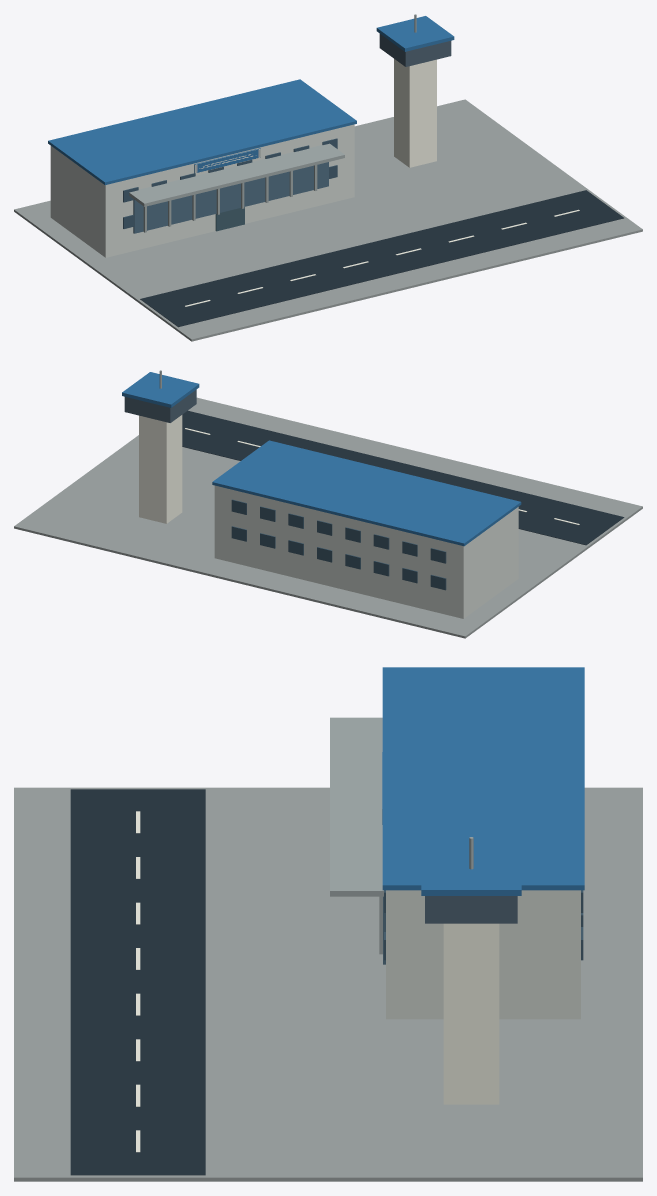
File: scendance-plan-airport.glb
3 views of the same model, one above another, from view 1: azimuth 30°, elevation 25°; view 2: azimuth 150°, elevation 25°; view 3: azimuth 270°, elevation 25° (orthographic). The views are drawn at different scales.
Size of the model in its own units: 22 by 6.81 by 15.
11 materials, 1 textured.
